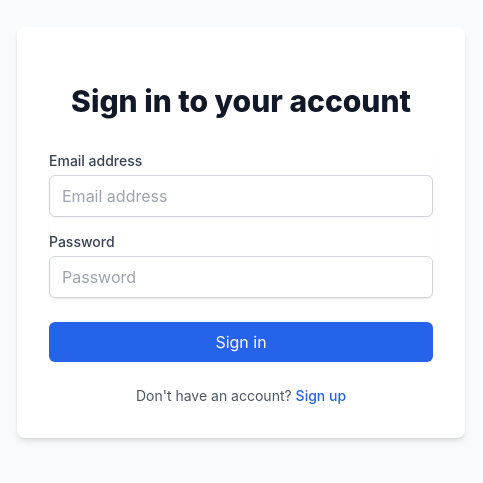
Test: Login Component › displays validation errors for empty fields
The width and height of the screenshot is (483, 483).
Click the button "Sign in": coordinates (241, 342) x1=49 y1=322 x2=433 y2=362
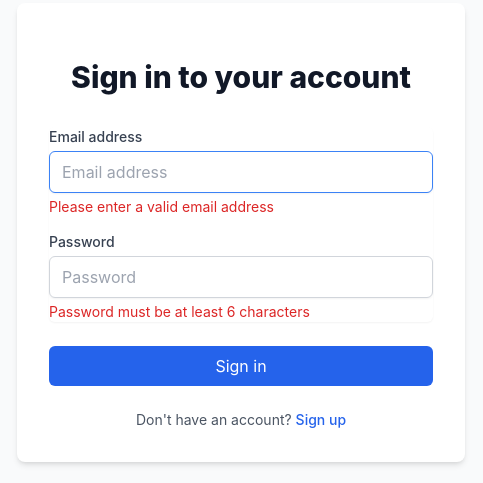
Expected: the text "Please enter a valid email address" is shown, x1=49 y1=198 x2=274 y2=214
Expected: the text "Password must be at least 6 characters" is shown, x1=49 y1=302 x2=310 y2=320
